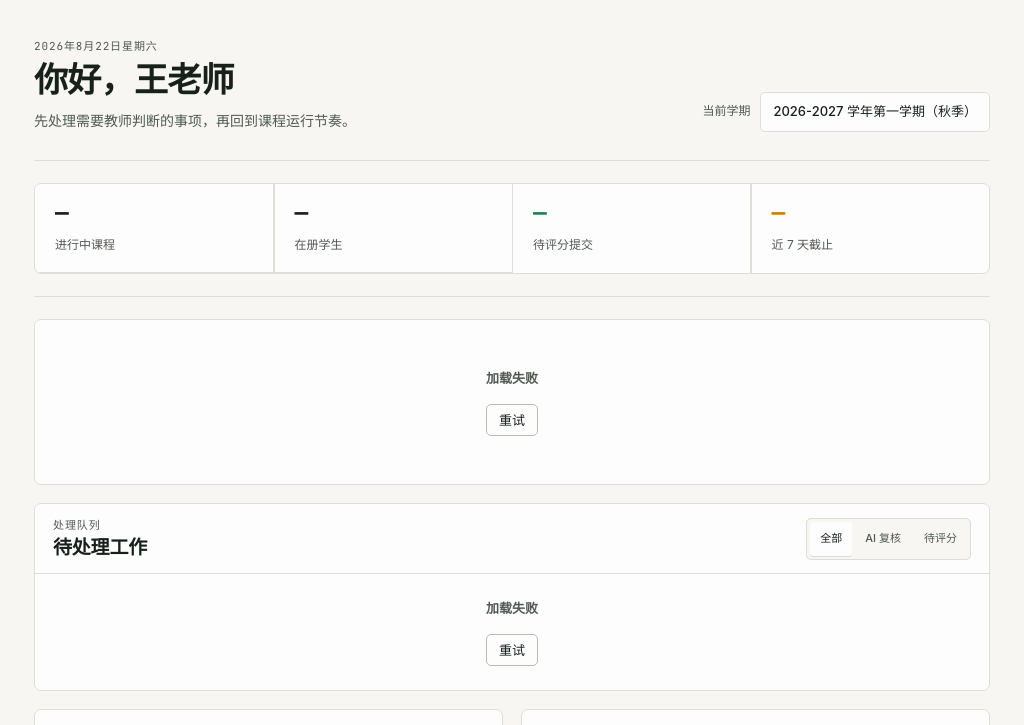
it: 教师首页 DashboardView › 请求失败展示错误并可重试
Click the 1st button with class "retry-btn".
click(512, 420)  # box 486,404 -> 538,436
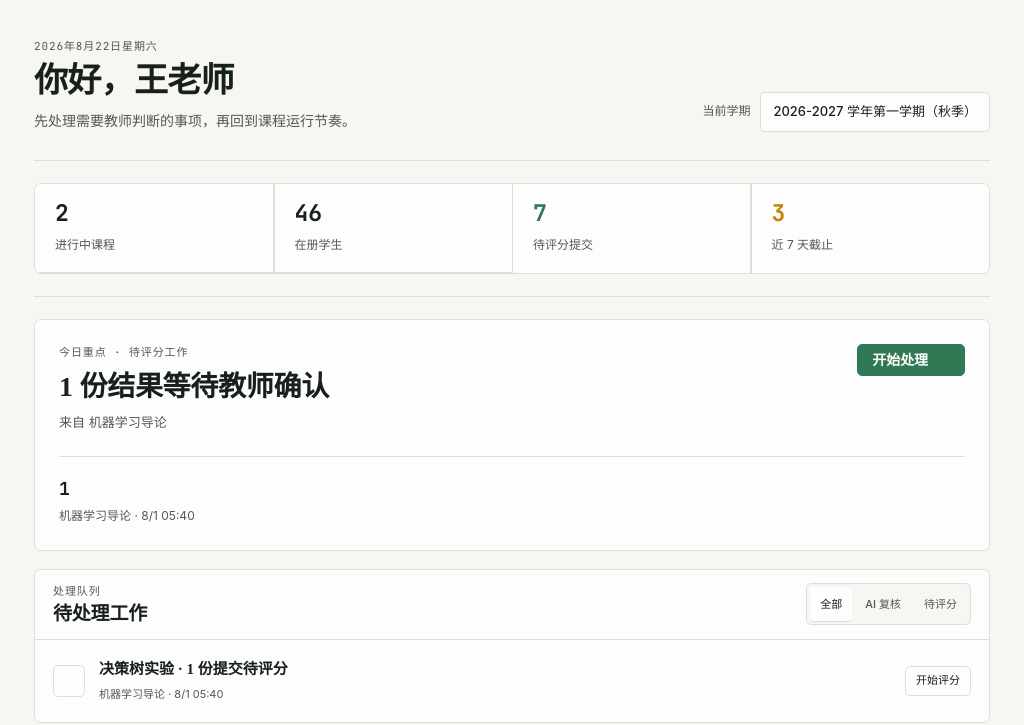
Expected: the text "决策树实验 · 1 份提交待评分" is shown, 99,661 -> 288,677
